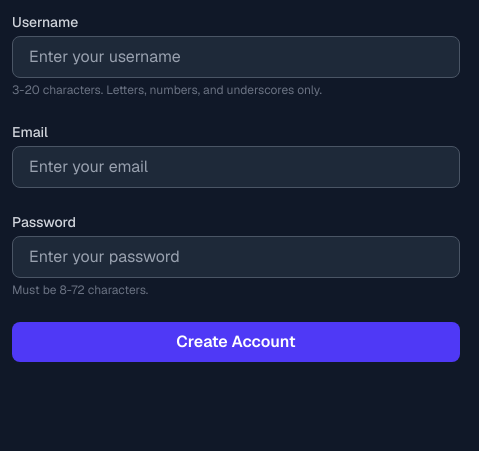
Scenario: RegisterForm › shows validation errors for empty form submit
This screenshot has width=479, height=451.
Click the button "Create Account" at (236, 342), box left=12, top=322, right=460, bottom=362
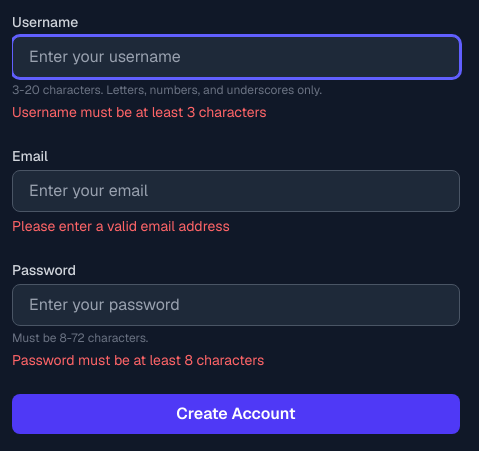
Expected: the text "Username must be at least 3 characters" is shown, left=12, top=103, right=266, bottom=121
Expected: the text "Please enter a valid email address" is shown, left=12, top=217, right=230, bottom=235
Expected: the text "Password must be at least 8 characters" is shown, left=12, top=351, right=264, bottom=369
